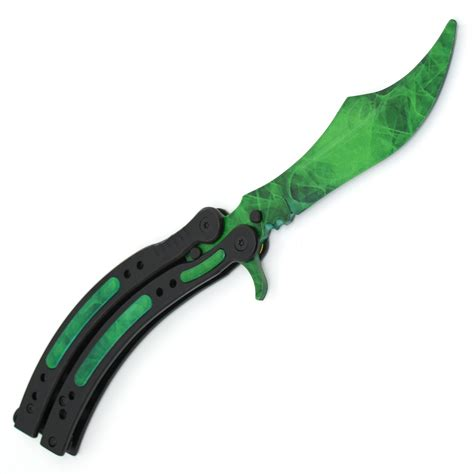knife: (12, 20, 459, 454)
